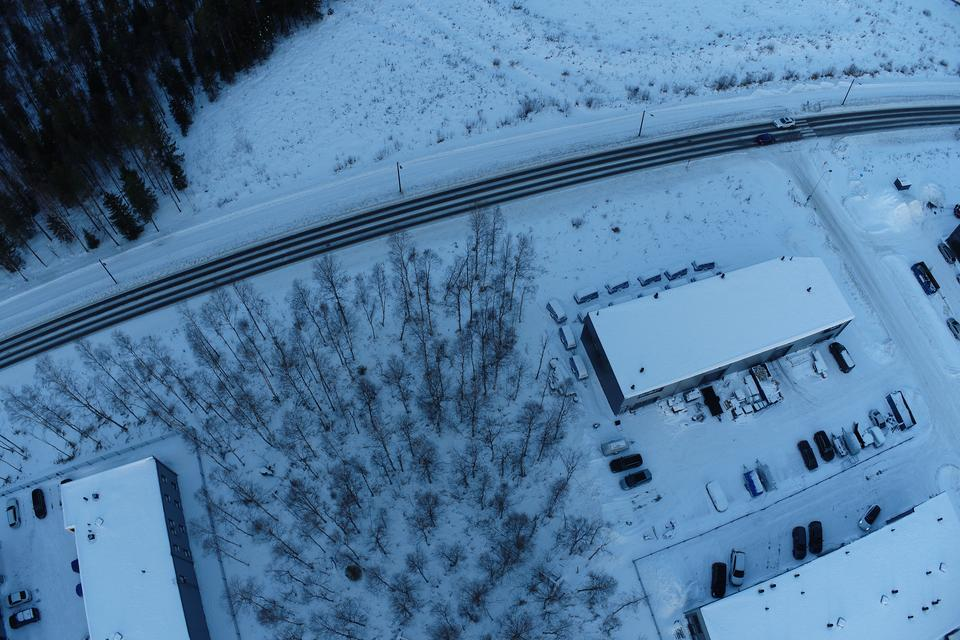intersection: (715, 81, 839, 175)
